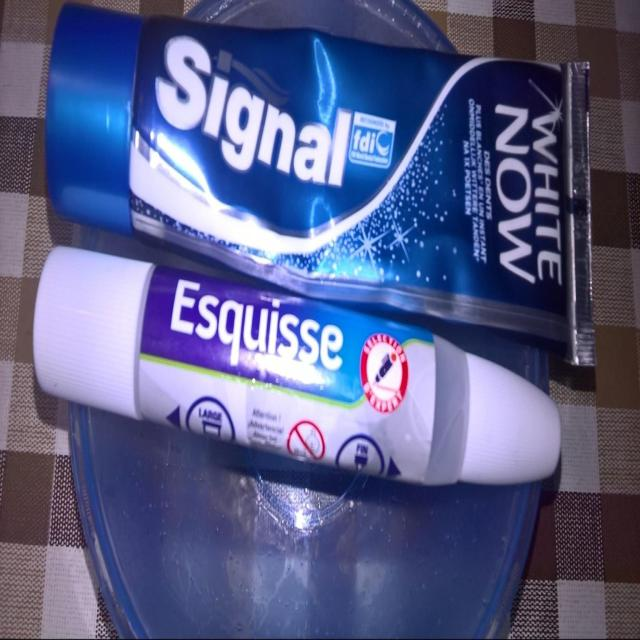Toothpaste: (44, 5, 603, 378)
